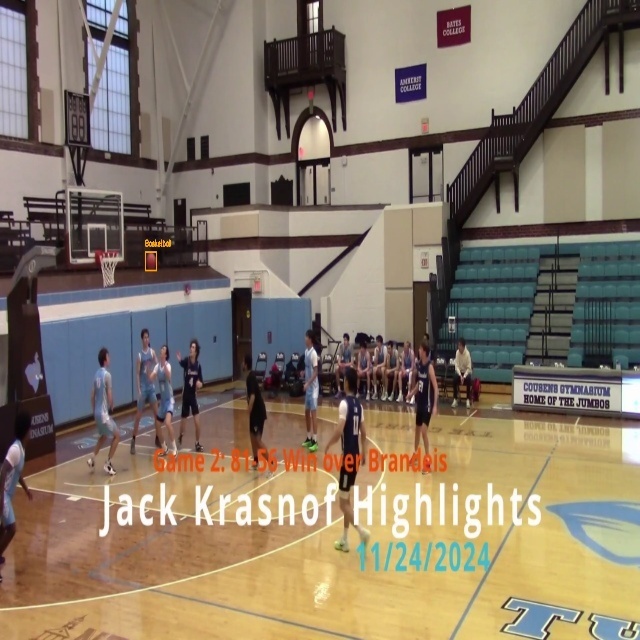Basketball: (145, 252, 156, 271)
